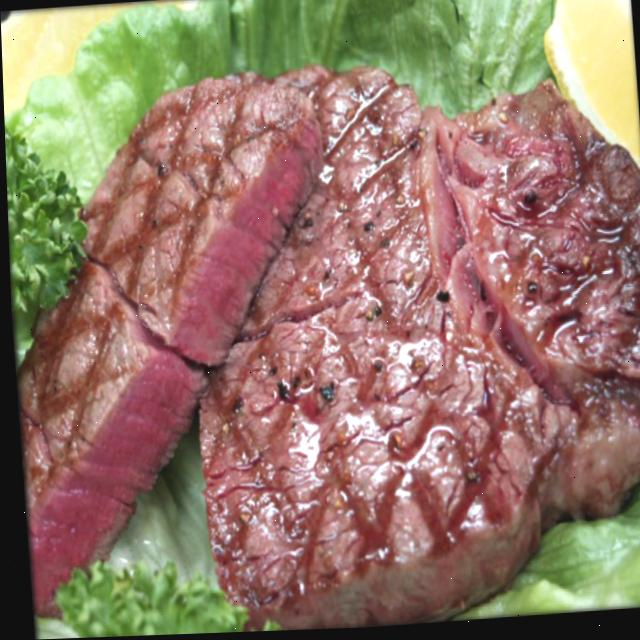牛肉菜式: (2, 46, 640, 640)
